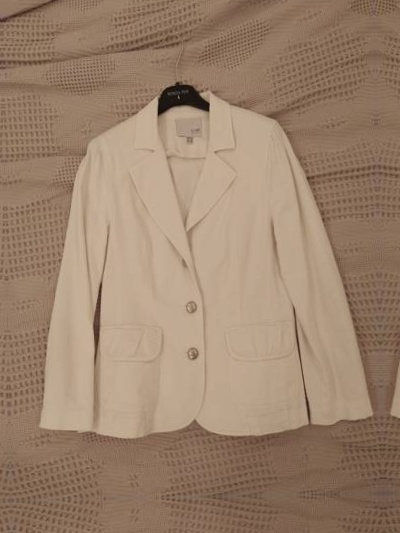Blazer: (22, 60, 383, 455), (375, 54, 400, 448), (385, 533, 400, 533)
